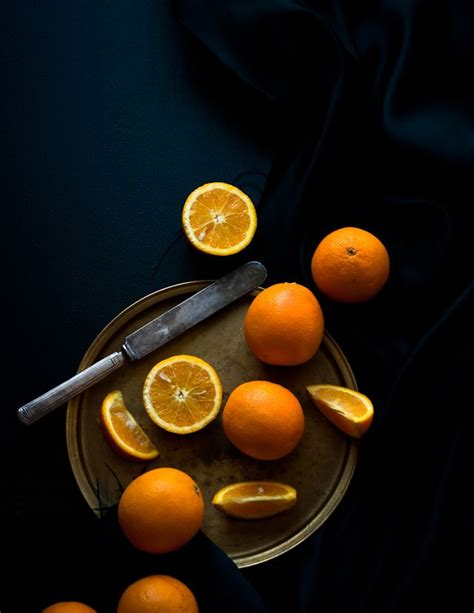orange: (110, 467, 207, 561), (220, 379, 308, 464), (245, 280, 325, 366), (311, 223, 391, 305)
